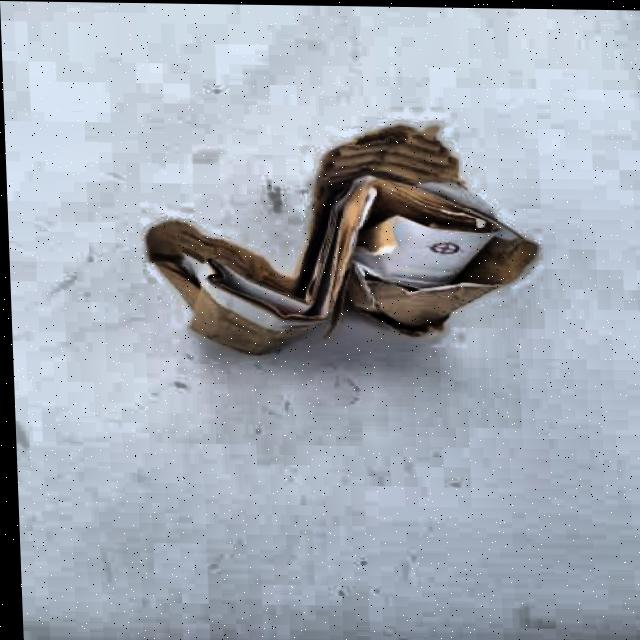cardboard: (138, 118, 542, 359)
